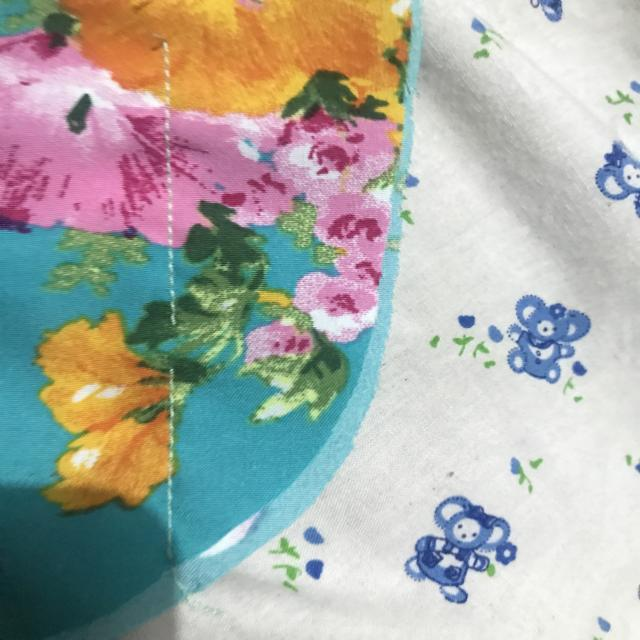broken: (154, 303, 193, 389)
